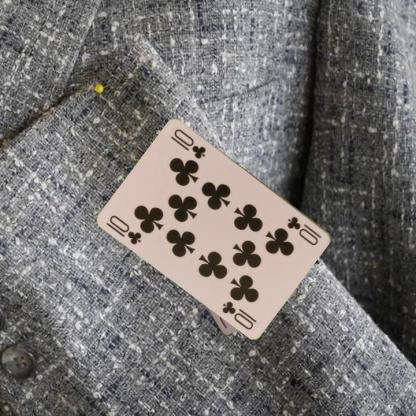10c: (285, 213, 323, 247), (107, 212, 143, 246)
